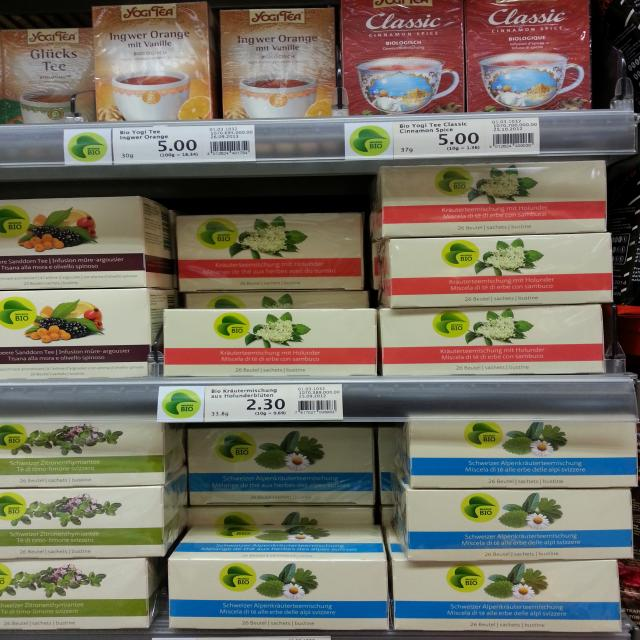Tea: (165, 521, 390, 632), (389, 555, 627, 634), (378, 161, 610, 236), (386, 489, 631, 560), (0, 468, 193, 558), (404, 416, 640, 489), (0, 196, 176, 290), (185, 427, 386, 509), (382, 237, 610, 306), (0, 291, 175, 378), (384, 309, 602, 378), (163, 308, 377, 378), (86, 2, 211, 121), (174, 211, 363, 289), (465, 0, 589, 114), (342, 0, 462, 115), (0, 415, 185, 488), (218, 9, 332, 119), (0, 559, 163, 630), (0, 30, 95, 126)
